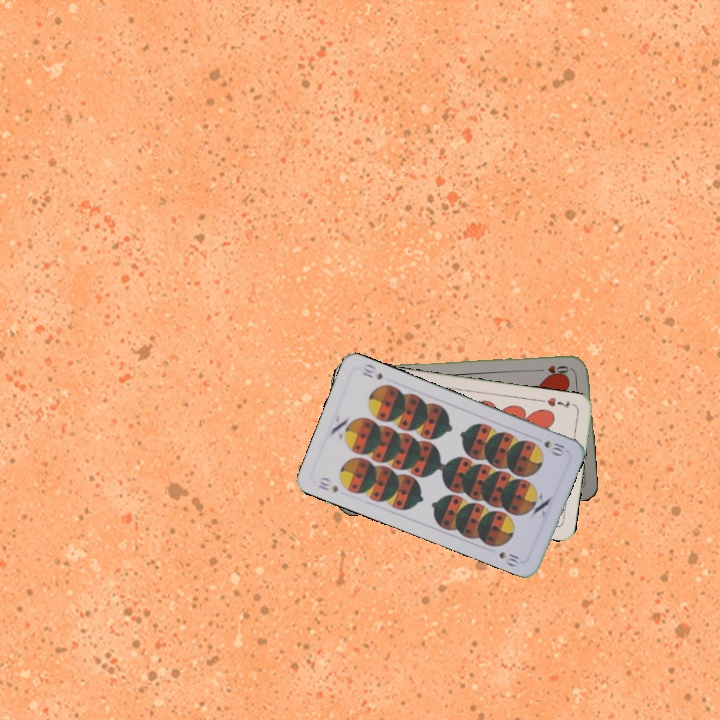H7: (543, 393, 572, 411)
HO: (533, 361, 574, 377)
S10: (313, 473, 341, 495), (540, 436, 567, 458)
